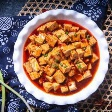mapodoufu: (24, 19, 97, 96)
